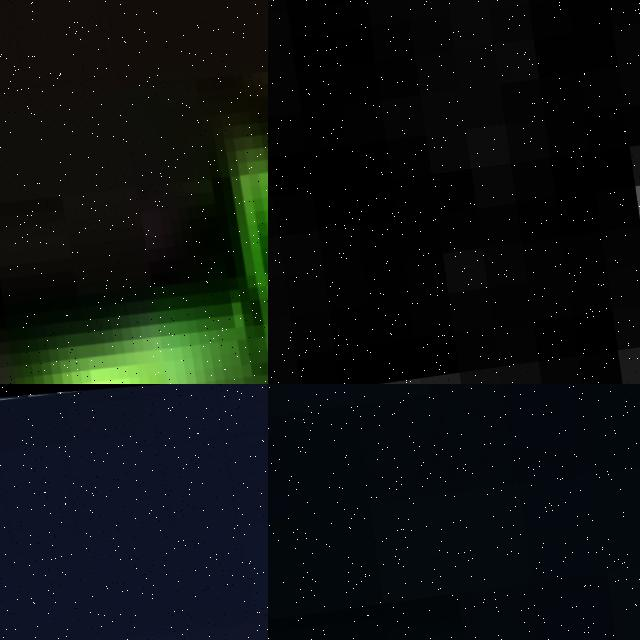drone: (0, 0, 268, 384), (0, 384, 268, 640), (268, 0, 640, 71)
